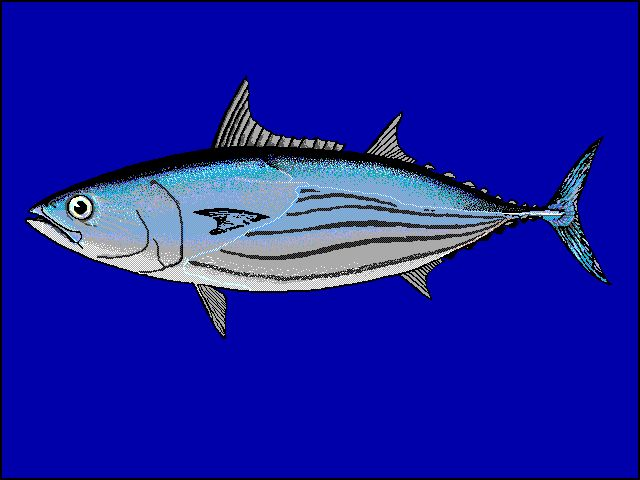fish: (25, 73, 613, 338)
